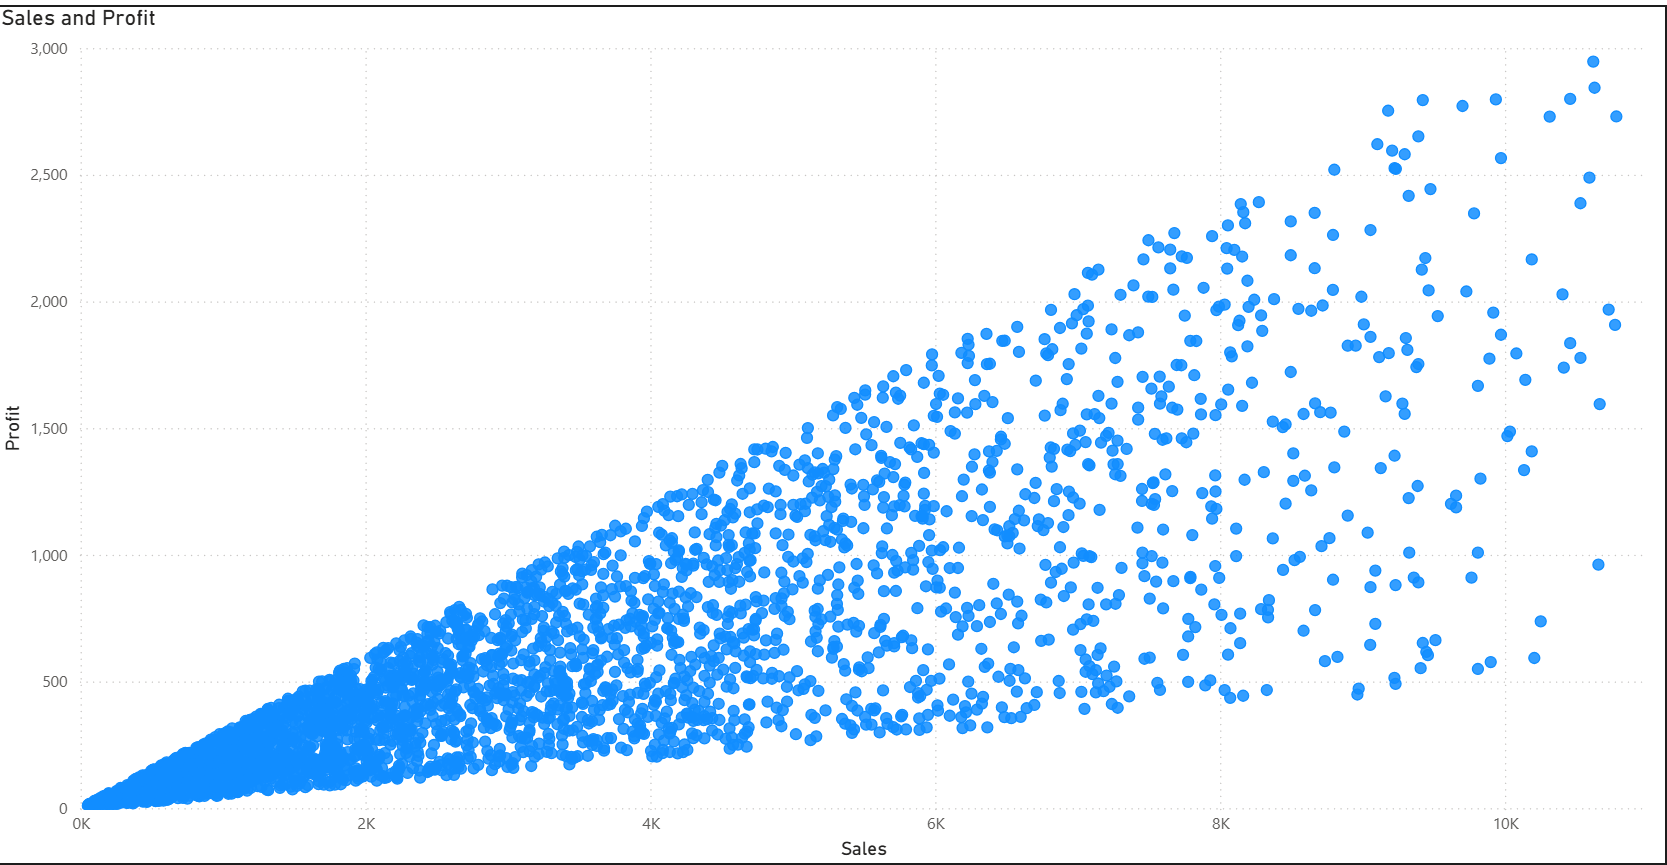

What the dashboard file says about the page in this screenshot:
{"tool":"powerbi","page":{"name":"Page 4","canvas":[1280,720],"ordinal":3},"visuals":[{"type":"scatterChart","fields":{"Y":["ecommerce_added_columns (4).Profit"],"X":["ecommerce_added_columns (4).Sales"]},"box":[0,61.2,1280,658.4],"z":0}]}

Visuals, with their boxes on the page's 1280x720 design canvas (x1, y1, x2, y2). These are canvas units, not pixel positions in the 1667x865 screenshot, which may show the page scaled, cropped or inside an application window:
scatterChart - ecommerce_added_columns (4).Profit x ecommerce_added_columns (4).Sales: 0,61,1280,720
